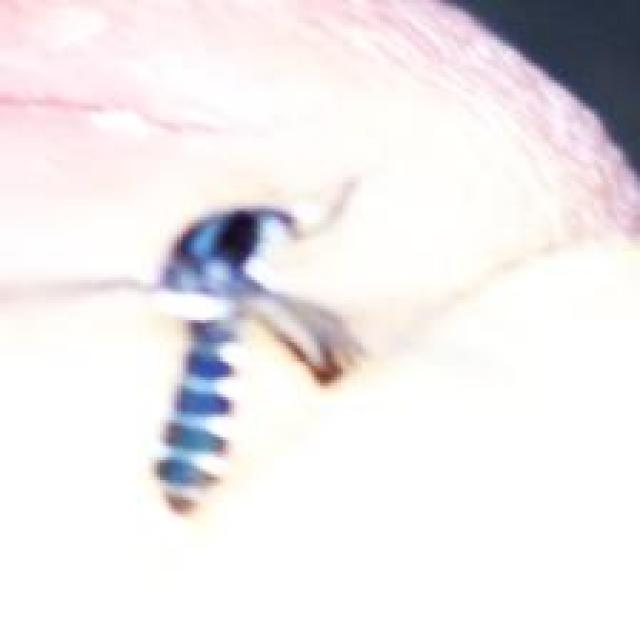Aedes albopictus: (0, 173, 371, 516)
